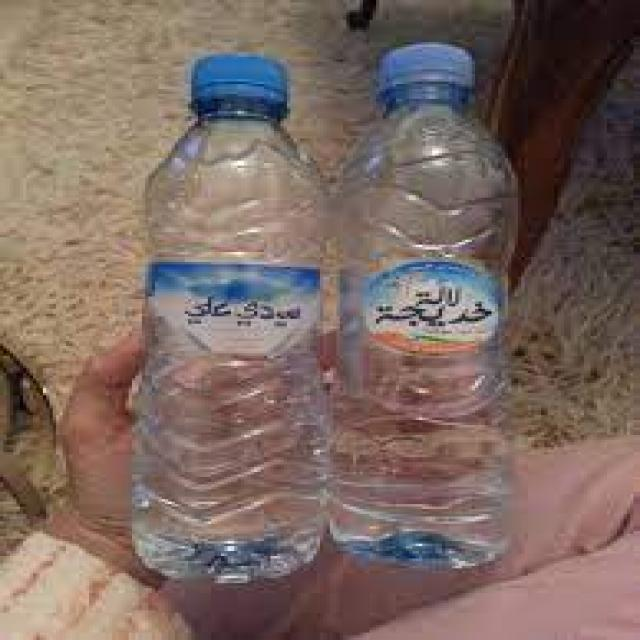Flask: (358, 25, 601, 605), (122, 42, 356, 614)
